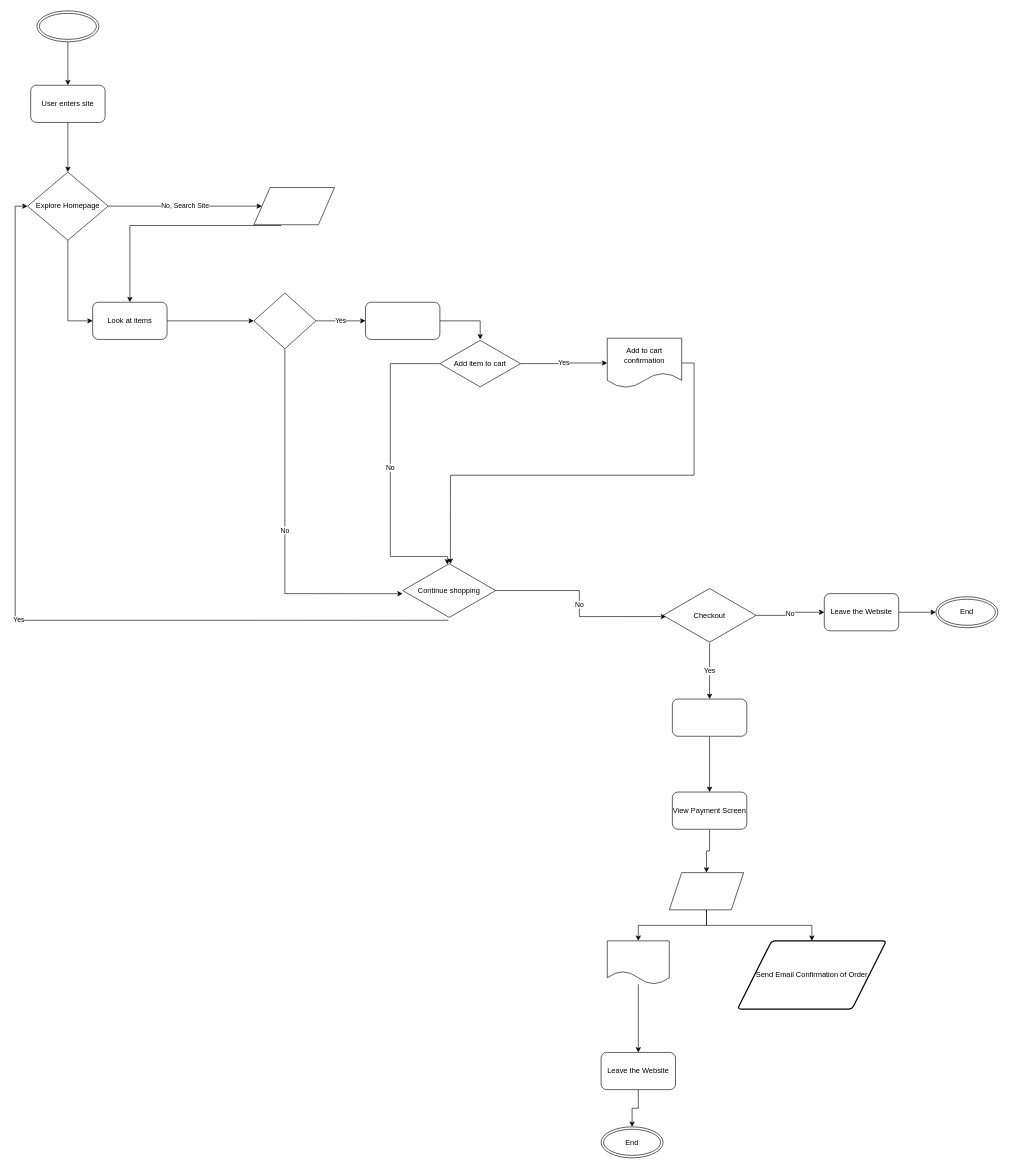
Image size: 1009x1169. Some labels were removed from this diagram. The centre of each missing label's shape, as x and y in pixels:
"Input payment information" belongs at (706,891).
"Input Search Data" belongs at (293,206).
"Open Webpage" belongs at (402,320).
"Order Confirmation Screen" belongs at (638,962).
"Reach View Cart Screen" belongs at (709,717).
"Start" belongs at (67,26).
"View Specific Product" belongs at (284,320).
